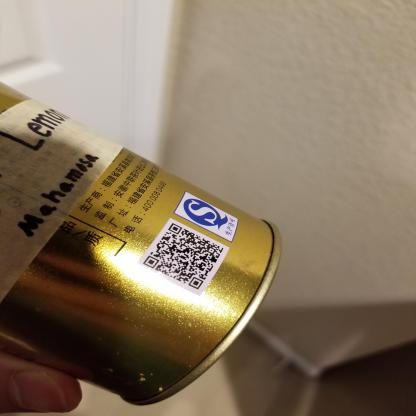qr: (139, 221, 227, 291)
